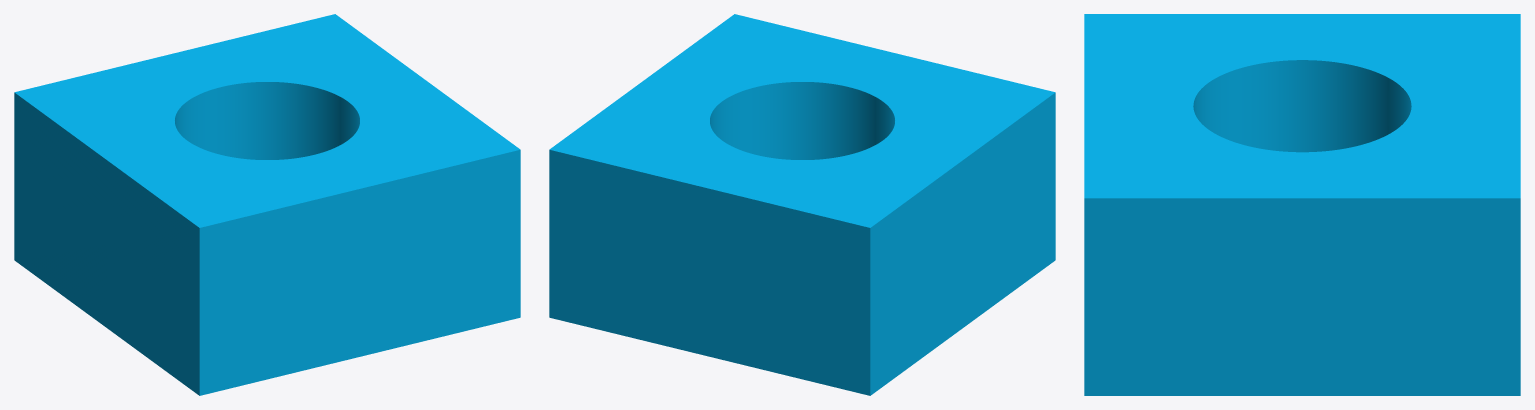
Rendered from workplane-1.gltf.
The picture shows the model from 3 angles, left to right: view 1: azimuth 30°, elevation 25°; view 2: azimuth 150°, elevation 25°; view 3: azimuth 270°, elevation 25°; orthographic projection. The views are drawn at different scales.
Visible parts, largest first — view 1: Gövde; view 2: Gövde; view 3: Gövde.
Part boxes in pixels (x1,y1,x2,y2): Gövde: [14, 14, 520, 395]; Gövde: [549, 14, 1055, 395]; Gövde: [1084, 14, 1520, 395].
Size of the model in its own units: 0.02 by 0.01 by 0.02.
